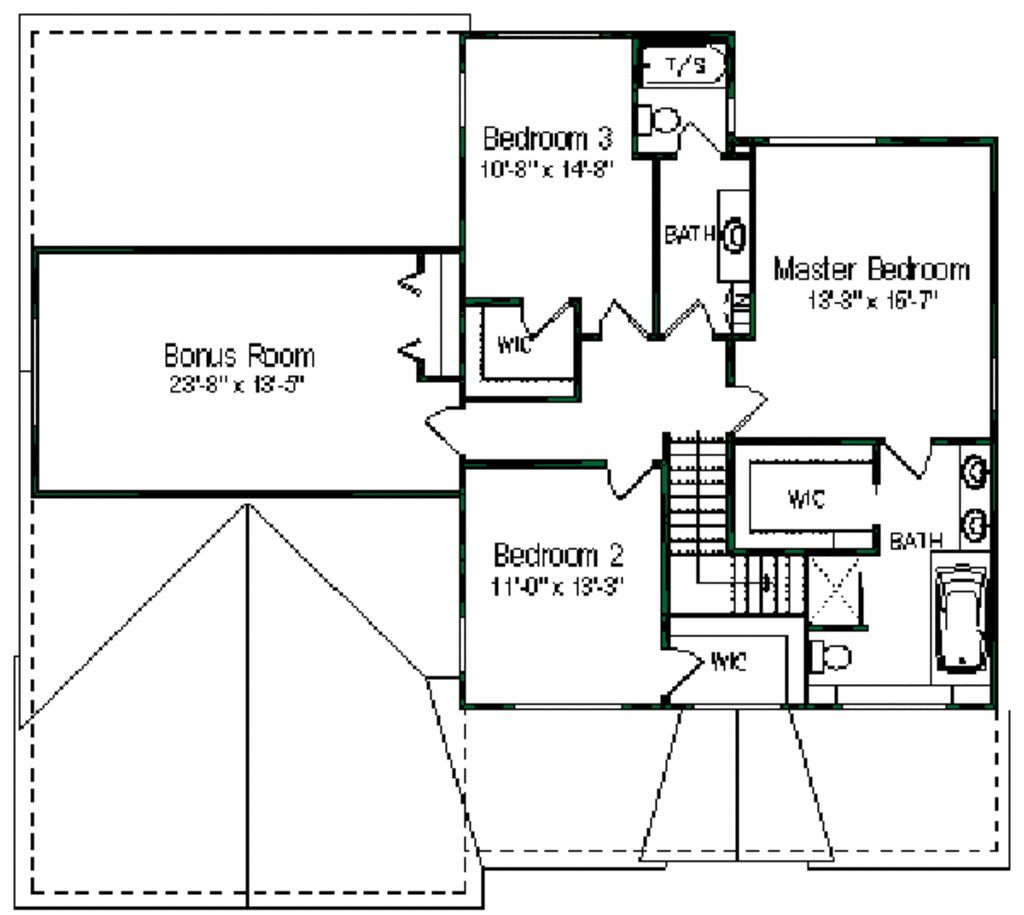door: (659, 640, 712, 698), (593, 295, 655, 342), (510, 290, 567, 340), (423, 405, 476, 455), (601, 452, 651, 501), (721, 380, 764, 433), (662, 296, 715, 337), (673, 121, 723, 158)
large_sink: (808, 633, 852, 684), (637, 101, 680, 140)
small_sink: (718, 190, 759, 286), (957, 443, 993, 551)
stairs: (659, 430, 810, 615)
tub: (932, 559, 993, 680), (638, 41, 728, 90)
